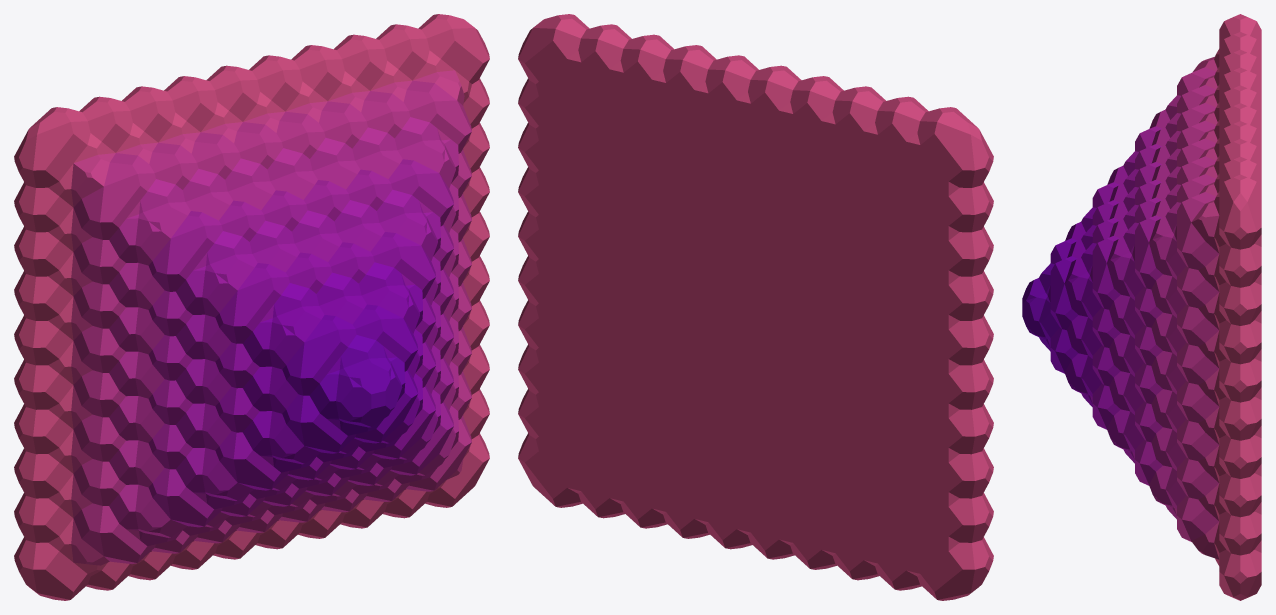
3 views of the same model, side by side, from view 1: azimuth 30°, elevation 25°; view 2: azimuth 150°, elevation 25°; view 3: azimuth 270°, elevation 25° (orthographic). The views are drawn at different scales.
Visible parts, largest first — view 1: vivid_3d_obj; view 2: vivid_3d_obj; view 3: vivid_3d_obj.
Boxes of the visible parts, x1,y1,x2,y2 form: vivid_3d_obj: [14, 14, 489, 600]; vivid_3d_obj: [518, 14, 993, 600]; vivid_3d_obj: [1022, 14, 1261, 600].
Bounding box in the file's own units: 22 × 22 × 11.33.
1 material, 1 textured.
